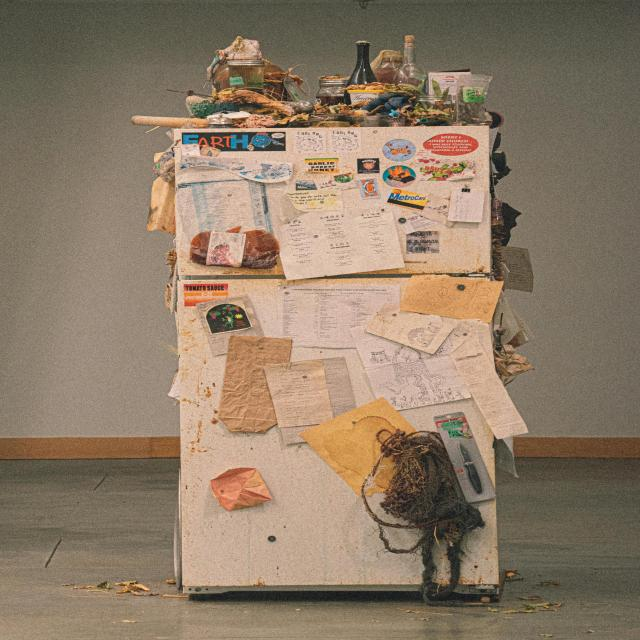glass: (353, 43, 373, 79)
paper: (282, 219, 394, 267)
